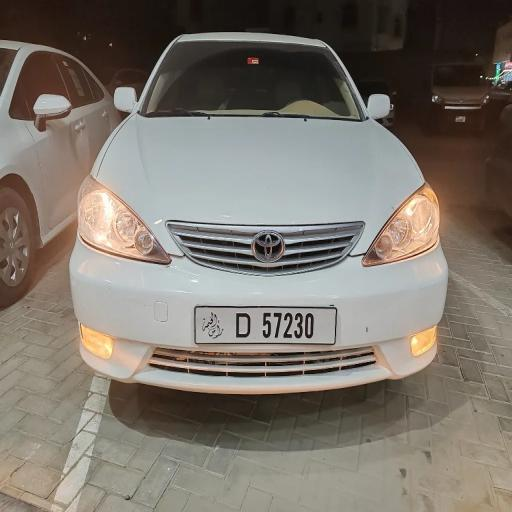license-plates: (195, 307, 337, 344)
